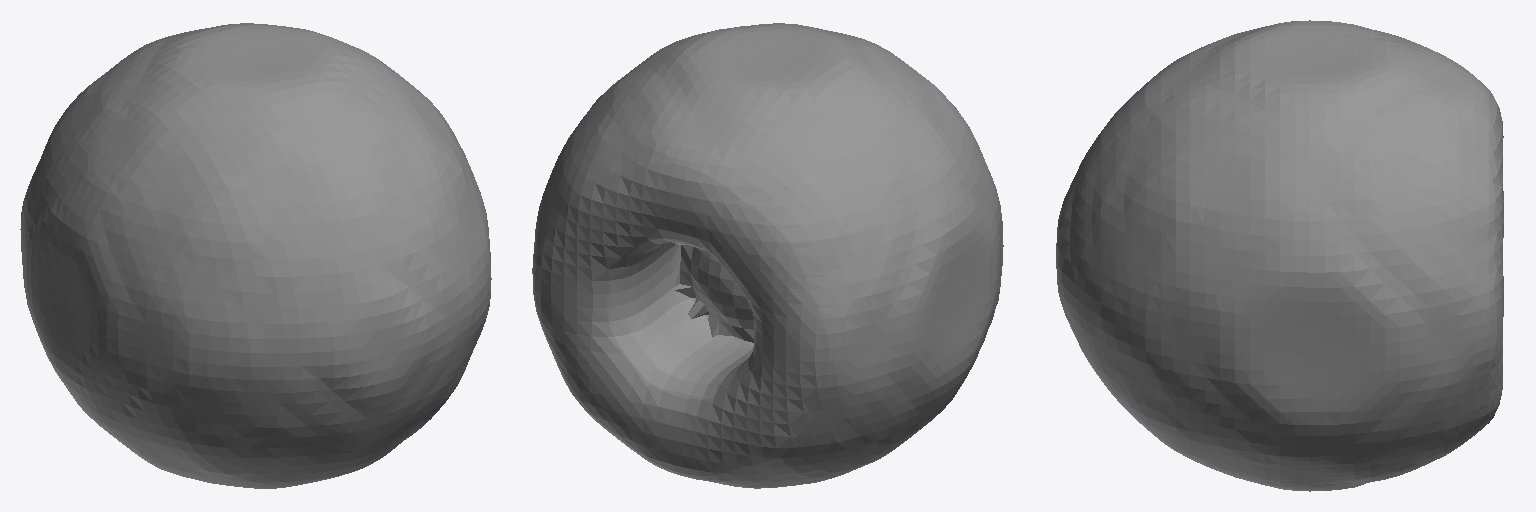
The robot description file, URDF, robot "cube.urdf":
<?xml version="0.0" ?> 
<robot name="cube.urdf"> 
<link name="legobrick"> 
<contact> 
<lateral_friction value="5.0"/> 
<rolling_friction value="0.0"/> 
<contact_cfm value="0.0"/> 
<contact_erp value="1.0"/> 
</contact> 
<inertial> 
<origin rpy="0 0 0" xyz="0.0 0.0 0.0"/> 
<mass value=".01"/> 
<inertia ixx="1" ixy="0" ixz="0" iyy="1" iyz="0" izz="1"/> 
</inertial> 
<visual> 
<origin rpy="1.570796 0 0" xyz="-0.025857912767886387 0.022548378526087282 -0.025870408058478272"/> 
<geometry> 
<mesh filename="B04_2.obj" scale="0.0006999989241016538 0.0006999989241016538 0.0006999989241016538"/> 
</geometry> 
<material name="yellow"> 
<color rgba="0.6 0.6 0.6 1"/> 
</material> 
</visual> 
<collision> 
<origin rpy="1.570796 0 0" xyz="-0.025857912767886387 0.022548378526087282 -0.025870408058478272"/> 
<geometry> 
<mesh filename="B04_2.obj" scale="0.0006999989241016538 0.0006999989241016538 0.0006999989241016538"/> 
</geometry> 
</collision> 
</link> 
</robot>

--- Render facts (derived) ---
3 views of the same robot in one strip: view 1: azimuth 30°, elevation 25°; view 2: azimuth 150°, elevation 25°; view 3: azimuth 270°, elevation 25° (orthographic).
Robot: cube.urdf — 1 links, 0 joints (none); root link legobrick; default pose: every joint at zero.
Links seen in each view (by area): view 1: legobrick; view 2: legobrick; view 3: legobrick.
Boxes of the visible links, x1=… form: legobrick: x1=20, y1=23, x2=491, y2=488; legobrick: x1=532, y1=23, x2=1003, y2=488; legobrick: x1=1056, y1=20, x2=1503, y2=491.
Bounding box of the posed robot: 0.056 × 0.0561 × 0.056 m (x, y, z).
Meshes: 1 distinct files referenced, 1 mesh visuals loaded (1 OBJ).
